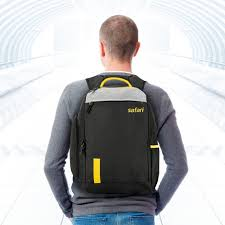backpack: (69, 72, 160, 197)
